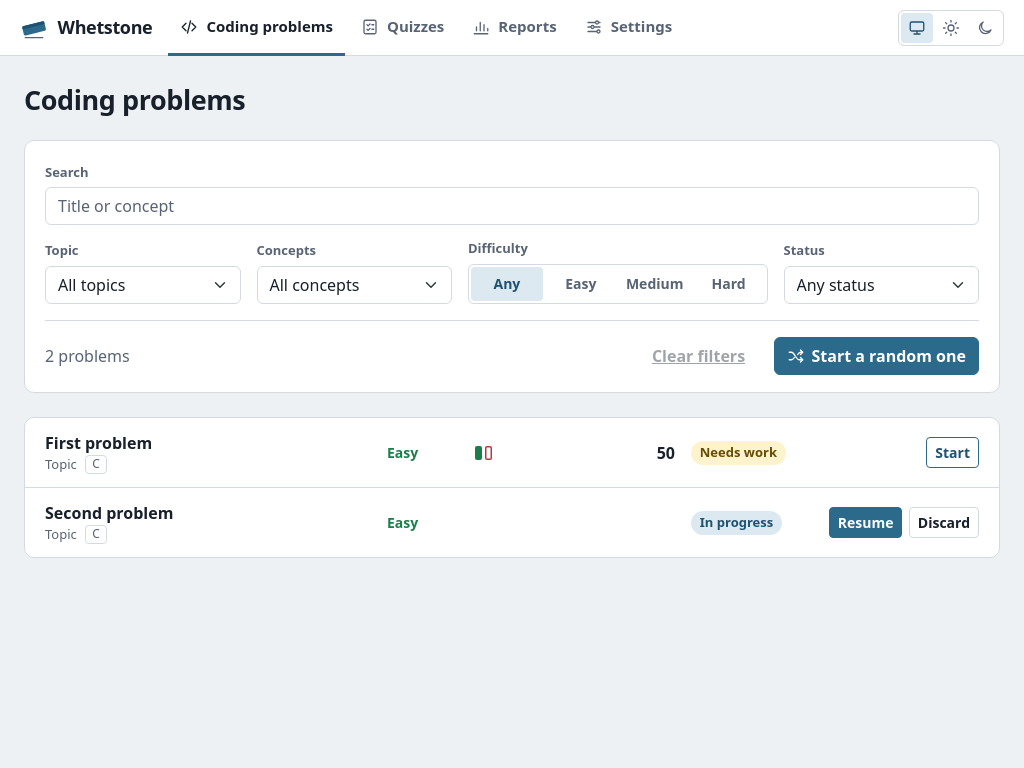
Test: App › resumes an unfinished attempt with its code and hints
Expected: the list item "Second problem" shows "In progress", [700,513,773,531]
Click the button with aria-label "Resume Second problem".
click(866, 523)  # box [829,507,902,538]
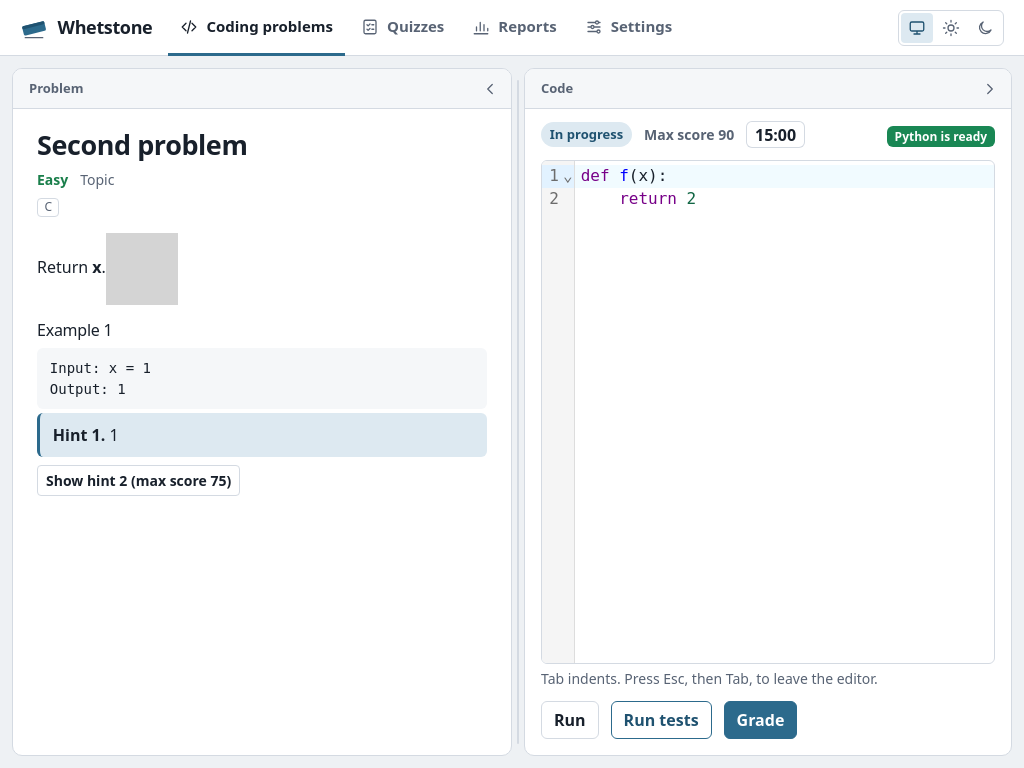
Expected: the field named "Solution code" shows "return 2", [575,165,994,208]
Expected: the element named "Hints" shows "Hint 1.", [37,414,487,496]
